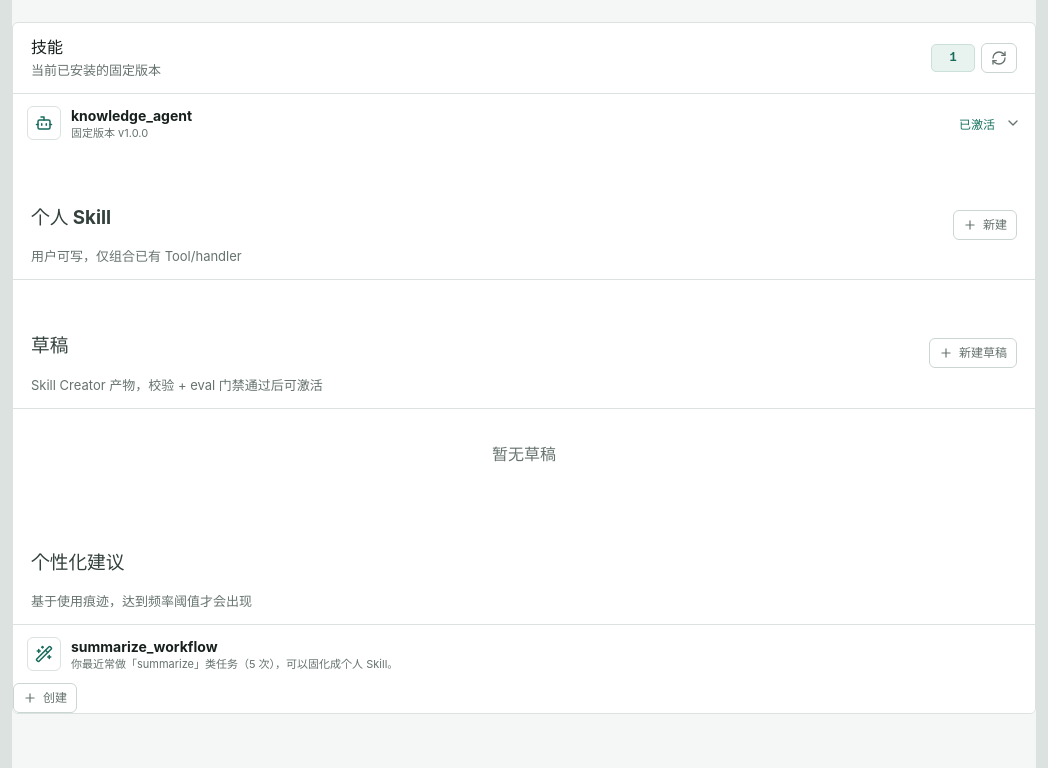
Scenario: shows a suggestion only from usage evidence and scaffolds a draft on click
This screenshot has width=1048, height=768.
Expected: the heading "个性化建议" is shown, 31,551 -> 124,574
Expected: the text "summarize_workflow" is shown, 71,638 -> 218,655
Click the button with aria-label "从建议创建草稿 summarize_workflow" at x=45, y=698, box 13,683 -> 77,713
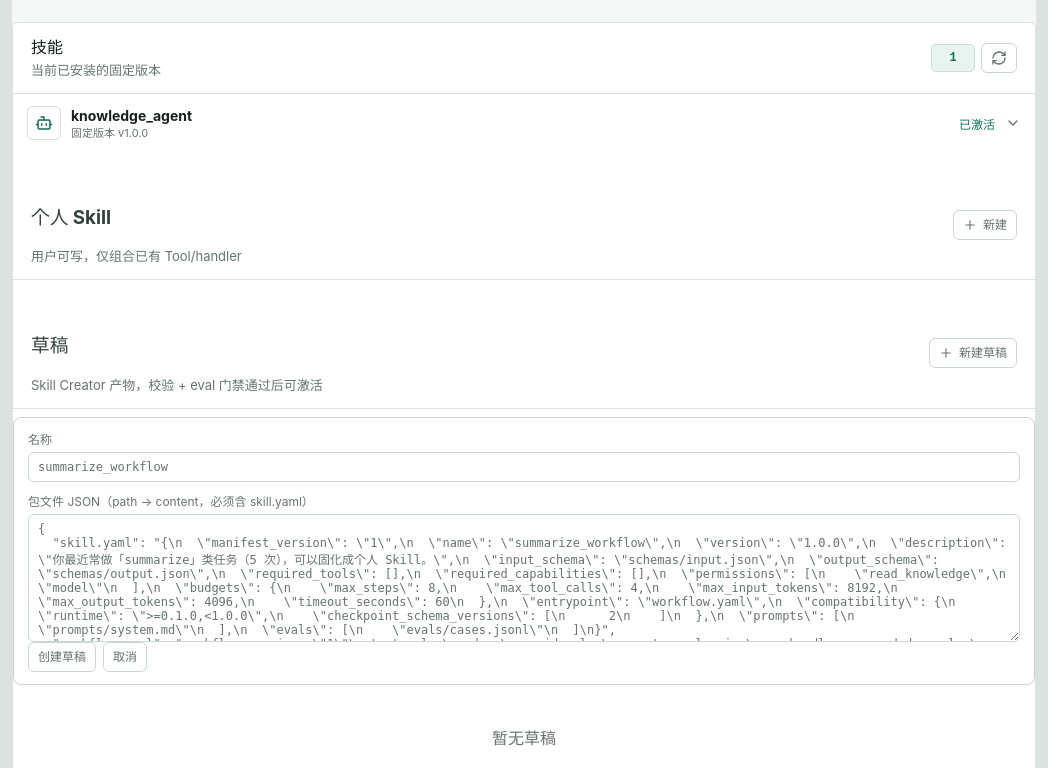
Expected: the field showing "summarize_workflow" is shown, 28,452 -> 1020,482
Expected: the button "创建草稿" is shown, 28,642 -> 96,672
Expected: the text box with placeholder "{\"skill.yaml\": \"...\", \"workflow.yaml\": \"...\", ...}" is shown, 28,514 -> 1020,642
